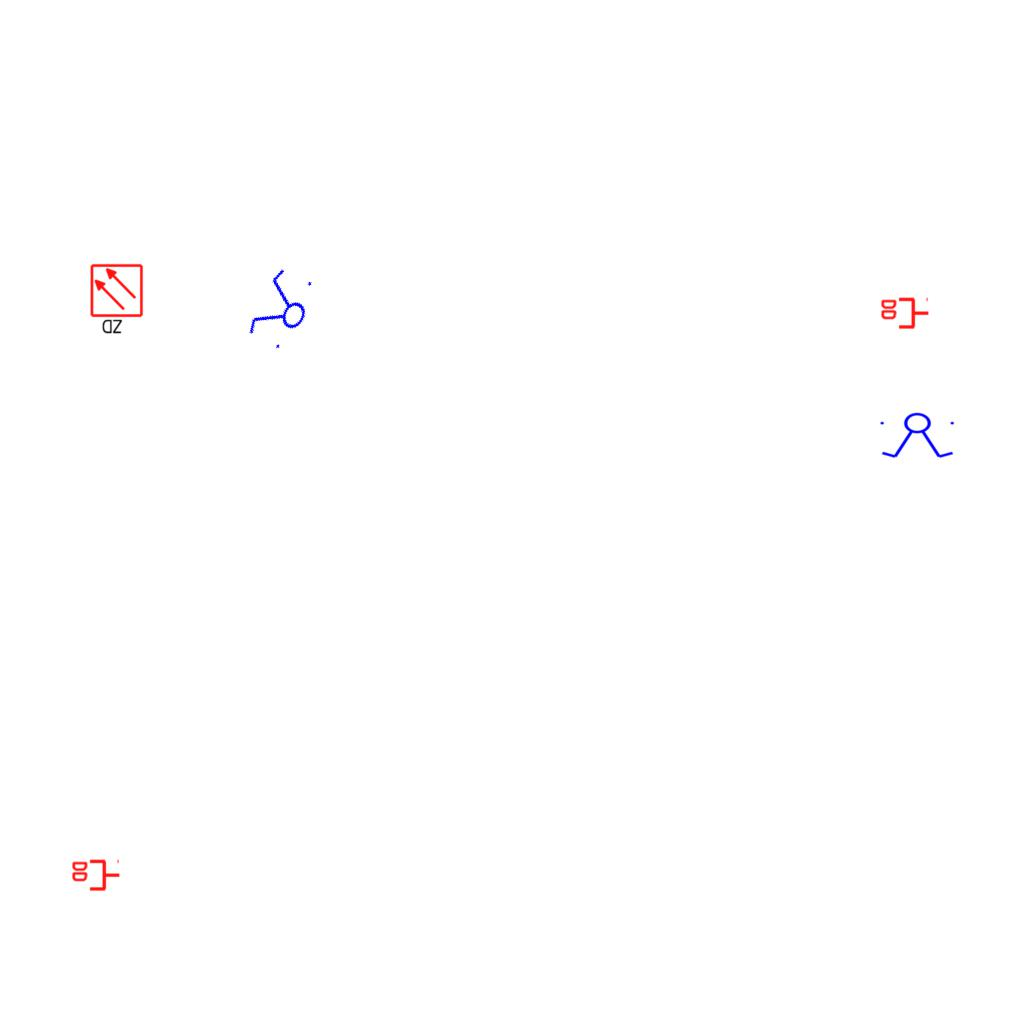Datenanschluss_zweifach: (879, 297, 930, 331), (70, 859, 121, 893)
Serienschalter: (241, 261, 323, 359), (876, 412, 960, 460)
ZD_Melder_in_Zwischendecke_mit_Revisionsoeffnung_mind_40_x_40_cm: (89, 263, 146, 337)
